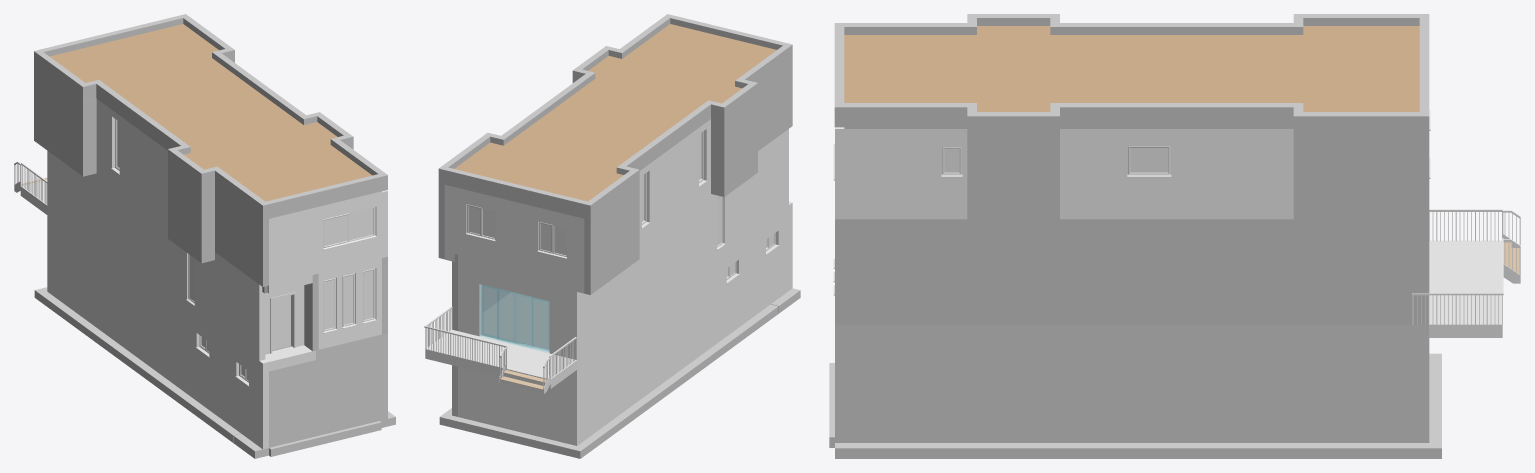
Rendered from house724.glb.
3 renders of one model, left to right at view 1: azimuth 30°, elevation 25°; view 2: azimuth 150°, elevation 25°; view 3: azimuth 270°, elevation 25°, orthographic. The views are drawn at different scales.
Visible parts, largest first — view 1: 724 (×6); view 2: 724 (×8); view 3: 724 (×6).
Boxes of the visible parts, box(x1,y1,x2,y2) form: 724 (×6): box(14, 14, 395, 458); 724 (×8): box(424, 14, 800, 458); 724 (×6): box(829, 14, 1520, 458).
Bounding box in the file's own units: 20.82 × 32.92 × 59.5.
